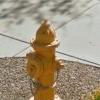Hydrant: (14, 14, 69, 100)
